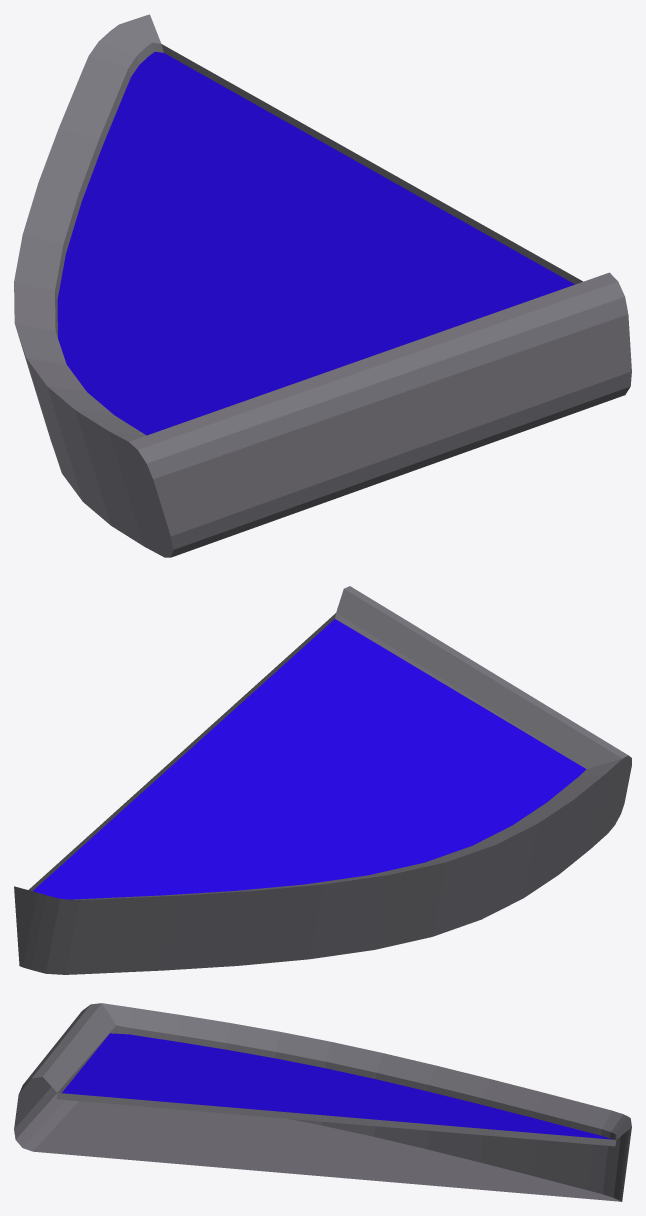
Rendered from bouclier.glb.
3 renders of one model, top to bottom at view 1: azimuth 30°, elevation 25°; view 2: azimuth 150°, elevation 25°; view 3: azimuth 270°, elevation 25°, orthographic. The views are drawn at different scales.
Visible parts, largest first — view 1: Plan; view 2: Plan; view 3: Plan.
Part boxes in pixels (x1=…): Plan: x1=14, y1=14, x2=631, y2=557; Plan: x1=14, y1=586, x2=631, y2=974; Plan: x1=14, y1=1003, x2=631, y2=1201.
Size of the model in its own units: 1.13 by 0.6027 by 2.17.
